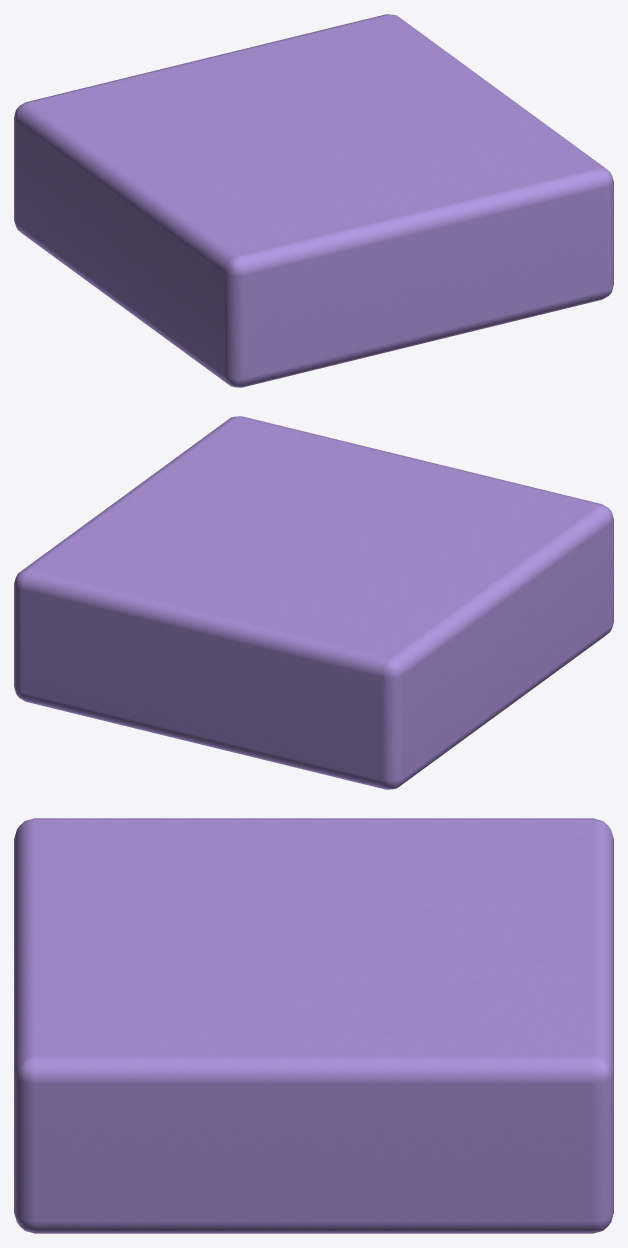
File: shape_square.glb
3 views of the same model, one above another, from view 1: azimuth 30°, elevation 25°; view 2: azimuth 150°, elevation 25°; view 3: azimuth 270°, elevation 25° (orthographic). The views are drawn at different scales.
Visible parts, largest first — view 1: SingleShapeBody.002; view 2: SingleShapeBody.002; view 3: SingleShapeBody.002.
Boxes of the visible parts, bbox=[...] form: SingleShapeBody.002: bbox=[14, 14, 613, 387]; SingleShapeBody.002: bbox=[14, 416, 613, 789]; SingleShapeBody.002: bbox=[14, 818, 613, 1233].
Size of the model in its own units: 0.68 by 0.22 by 0.68.
1 material, 1 textured.
